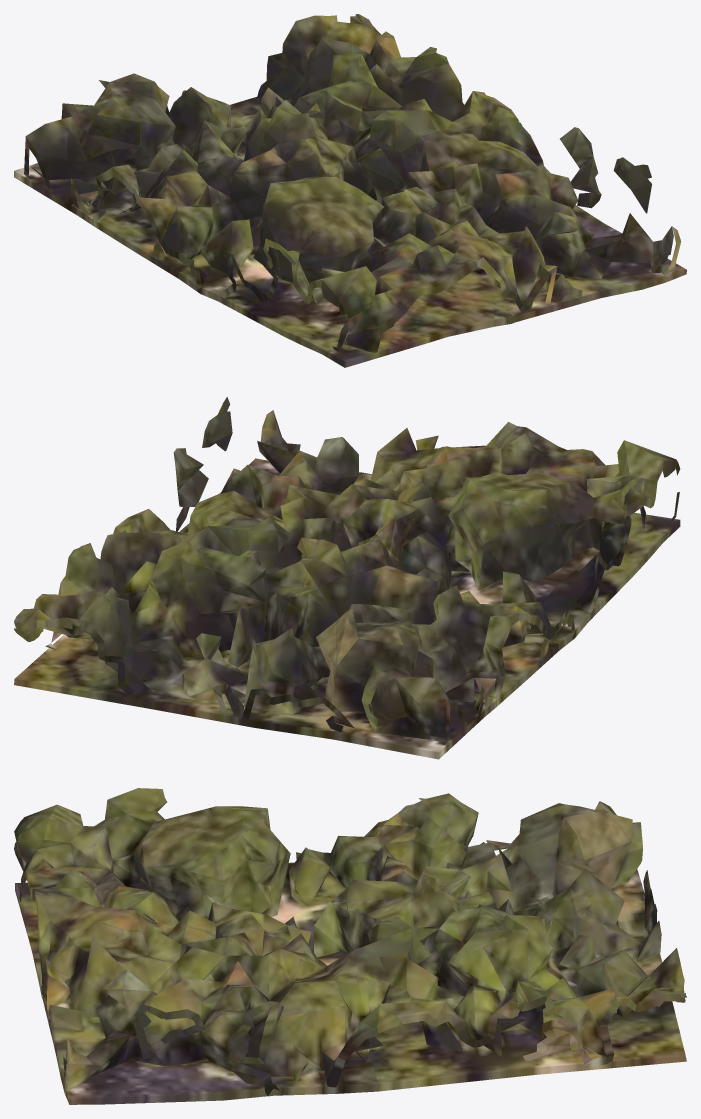
3 renders of one model, top to bottom at view 1: azimuth 30°, elevation 25°; view 2: azimuth 150°, elevation 25°; view 3: azimuth 270°, elevation 25°, orthographic. The views are drawn at different scales.
Parts seen in each view (by area): view 1: Mesh_0; view 2: Mesh_0; view 3: Mesh_0.
Part boxes in pixels (left/top/right/bottom): Mesh_0: left=14, top=14, right=686, bottom=367; Mesh_0: left=14, top=397, right=680, bottom=759; Mesh_0: left=14, top=788, right=686, bottom=1104.
Size of the model in its own units: 133 by 33.74 by 165.
Materials: 1 (1 with a texture image).
